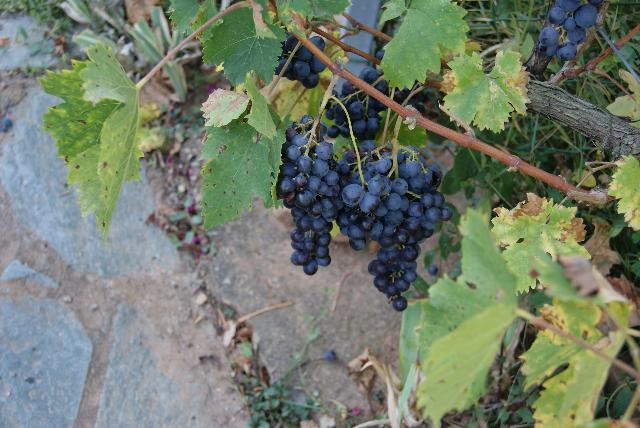grapes: (369, 150, 451, 311), (275, 115, 341, 275), (335, 140, 392, 250), (325, 81, 388, 140)
